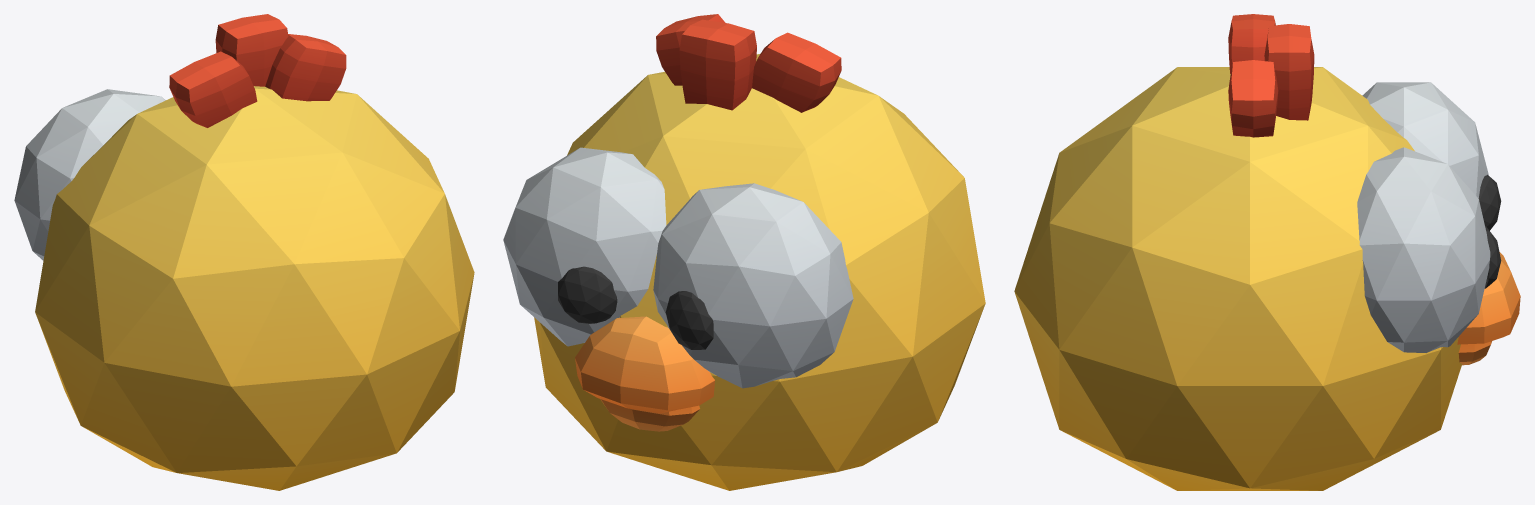
File: YellowChicken_pickup.fbx
3 views of the same model, side by side, from view 1: azimuth 30°, elevation 25°; view 2: azimuth 150°, elevation 25°; view 3: azimuth 270°, elevation 25° (orthographic). The views are drawn at different scales.
Visible parts, largest first — view 1: YellowChicken_pickup; view 2: YellowChicken_pickup; view 3: YellowChicken_pickup.
Boxes of the visible parts, x1,y1,x2,y2 form: YellowChicken_pickup: (14, 14, 474, 490); YellowChicken_pickup: (503, 14, 985, 490); YellowChicken_pickup: (1014, 14, 1520, 490).
Bounding box in the file's own units: 103 × 115 × 117.
